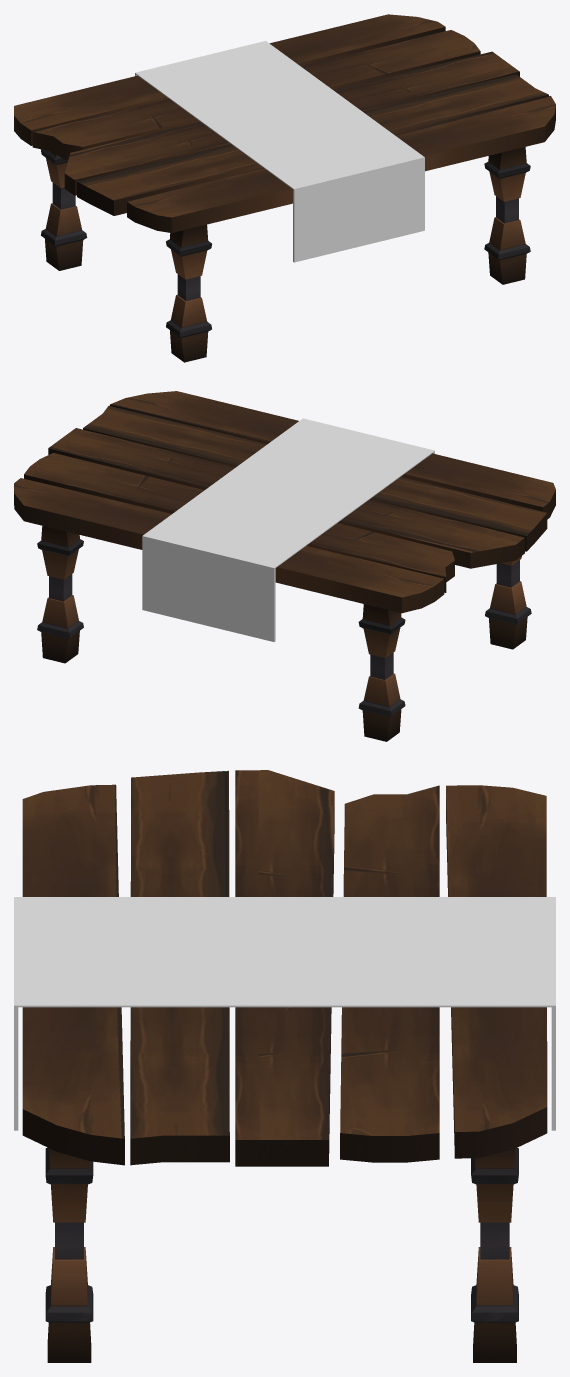
The model's file is GiftshopTable.fbx.
3 views of the same model, one above another, from view 1: azimuth 30°, elevation 25°; view 2: azimuth 150°, elevation 25°; view 3: azimuth 270°, elevation 25° (orthographic). The views are drawn at different scales.
Parts seen in each view (by area): view 1: Box001, Box002; view 2: Box001, Box002; view 3: Box001, Box002.
Boxes of the visible parts, left/top/right/bottom form: Box001: left=14, top=14, right=555, bottom=362; Box002: left=135, top=41, right=424, bottom=262; Box001: left=14, top=391, right=555, bottom=741; Box002: left=142, top=418, right=434, bottom=641; Box001: left=22, top=770, right=547, bottom=1362; Box002: left=14, top=897, right=555, bottom=1130.
Size of the model in its own units: 10.01 by 3.35 by 6.2.
